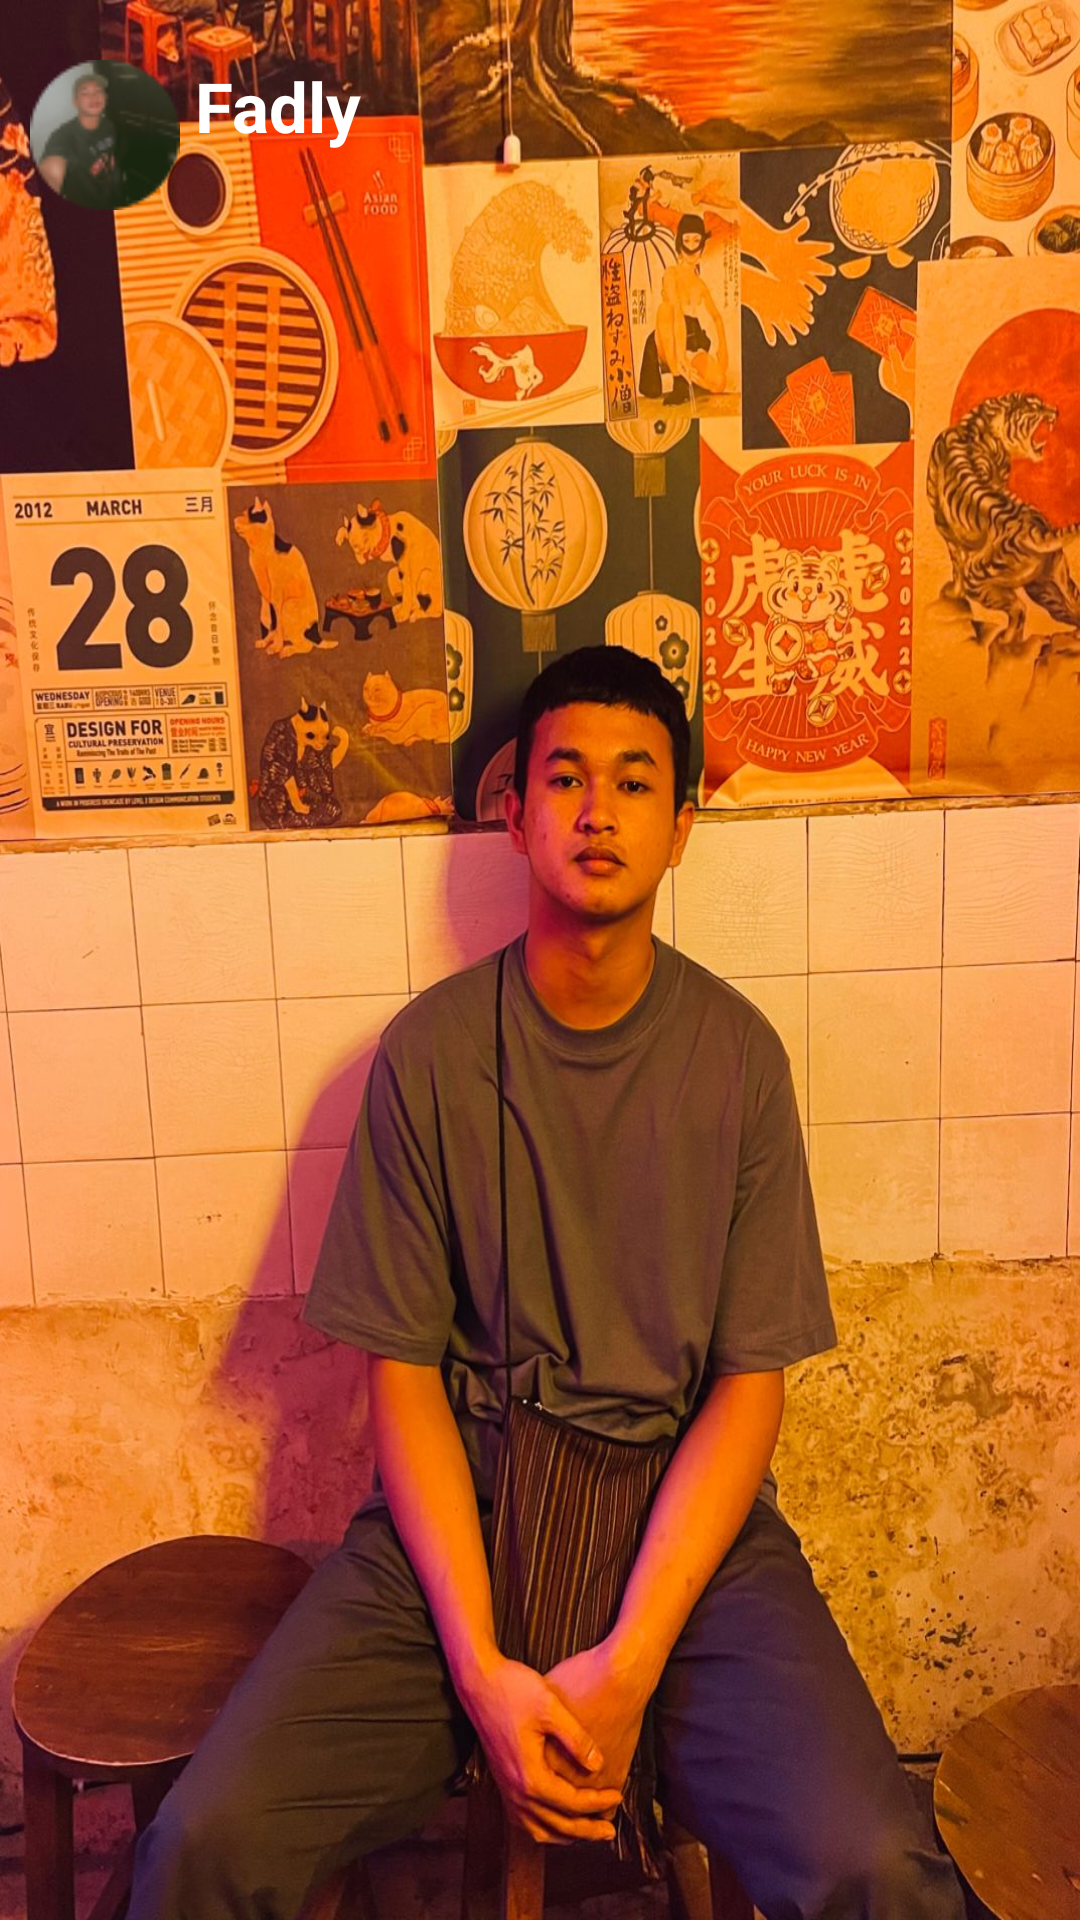

Screen size 1080px x 1920px. Icon name, then its center in pixels as (x,y):
chatprofil: (105,135)
